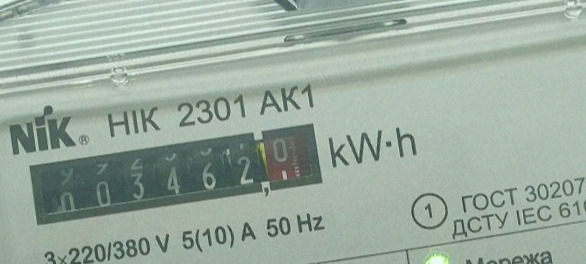0: (92, 177, 114, 208), (270, 135, 290, 165), (55, 188, 77, 214)
2: (234, 153, 256, 187)
3: (126, 170, 149, 204)
4: (163, 163, 184, 197)
6: (196, 158, 221, 194)
9: (55, 166, 77, 187)
screen: (14, 110, 336, 245)
